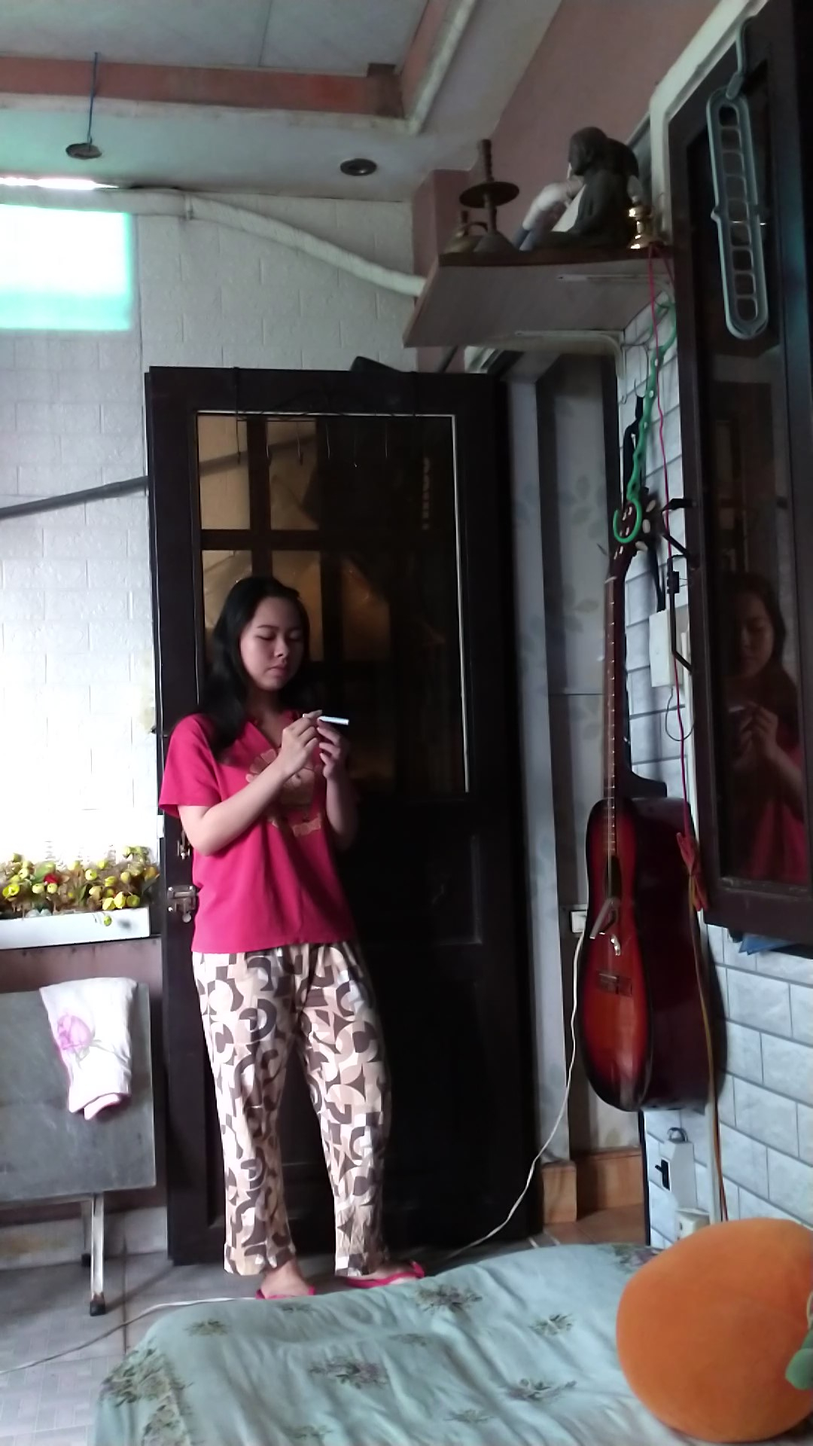cigarette: (320, 713, 353, 729)
person: (160, 554, 398, 1304)
